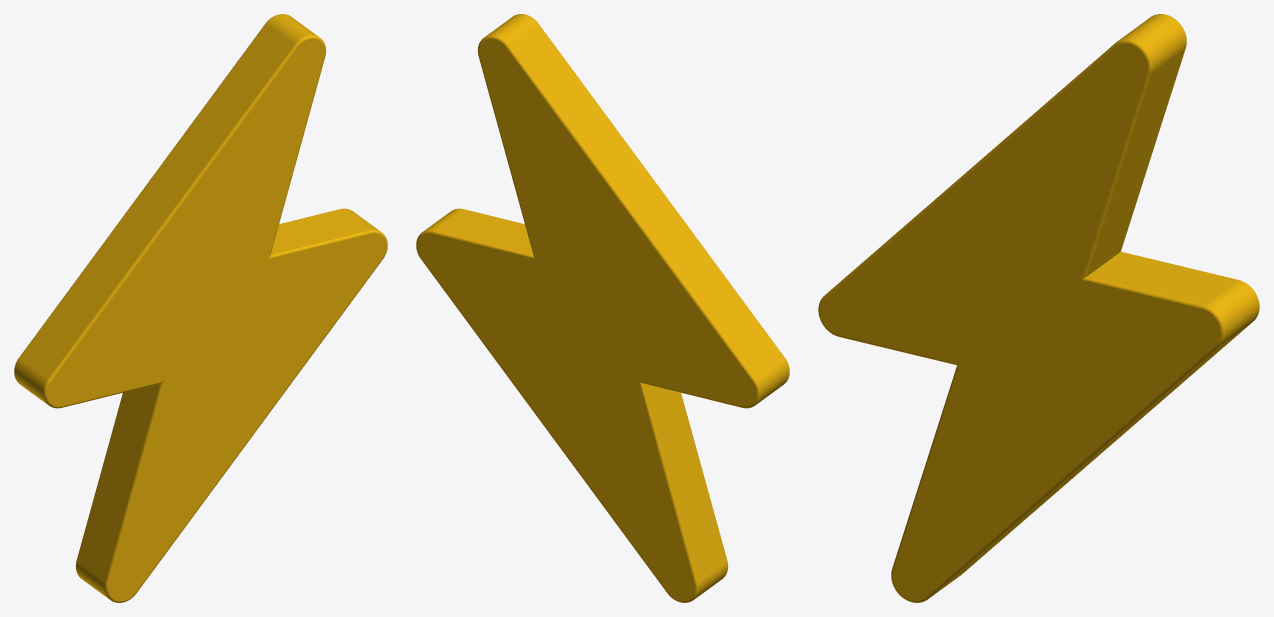
Rendered from 3dthunder.glb.
3 renders of one model, left to right at view 1: azimuth 30°, elevation 25°; view 2: azimuth 150°, elevation 25°; view 3: azimuth 330°, elevation 25°, orthographic. The views are drawn at different scales.
Size of the model in its own units: 2.76 by 4 by 0.4385.
